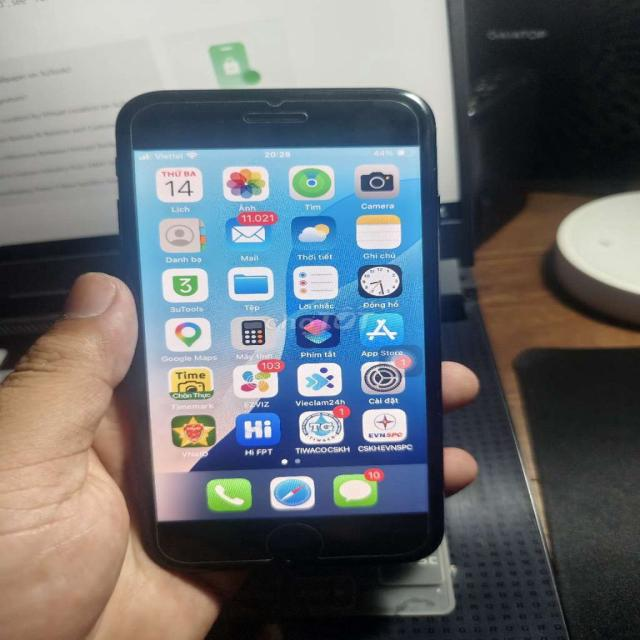scratch: (108, 84, 447, 566)
